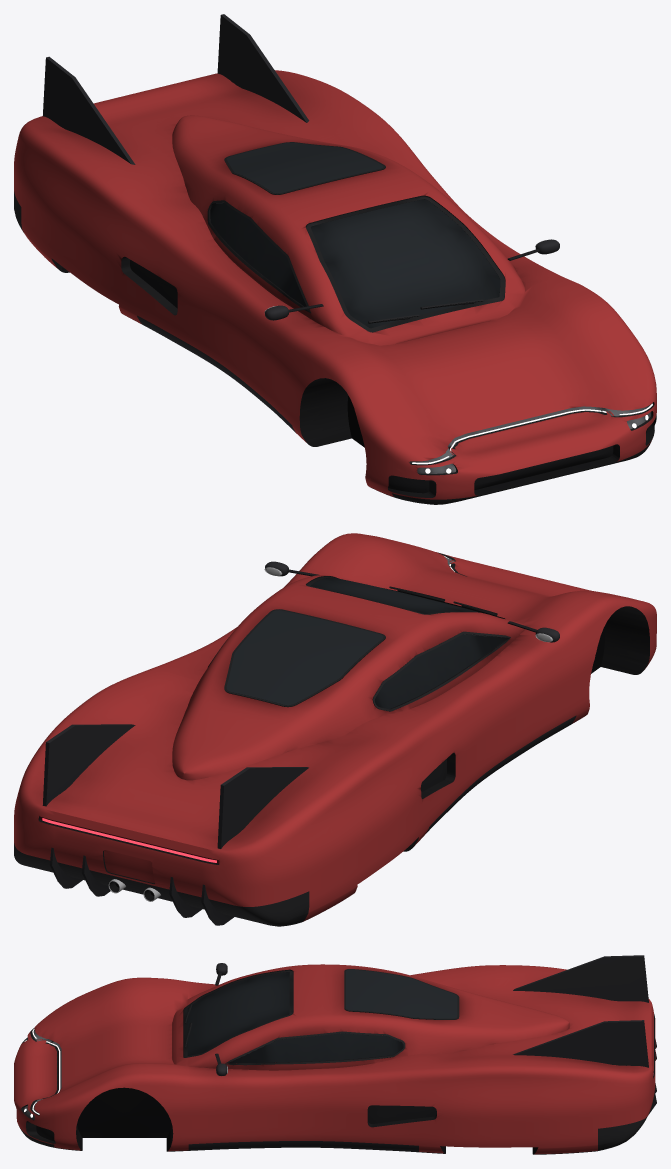
Rendered from apogee.m.glb.
3 renders of one model, top to bottom at view 1: azimuth 30°, elevation 25°; view 2: azimuth 150°, elevation 25°; view 3: azimuth 270°, elevation 25°, orthographic. The views are drawn at different scales.
Visible parts, largest first — view 1: paint_lodm, window_lodm, trim_lodm, carbon_lodm, glass_lodm, grille_lodm, head_lodm; view 2: paint_lodm, trim_lodm, carbon_lodm, glass_lodm, window_lodm, tailglow_lodm; view 3: paint_lodm, carbon_lodm, trim_lodm, window_lodm, glass_lodm, grille_lodm.
Boxes of the visible parts, <box> form: paint_lodm: <box>14,70,656,499</box>; window_lodm: <box>210,196,504,332</box>; trim_lodm: <box>14,142,656,504</box>; carbon_lodm: <box>43,14,559,432</box>; glass_lodm: <box>226,142,383,193</box>; grille_lodm: <box>130,259,647,493</box>; head_lodm: <box>409,403,652,473</box>; paint_lodm: <box>14,533,656,921</box>; trim_lodm: <box>14,552,649,926</box>; carbon_lodm: <box>42,561,576,925</box>; glass_lodm: <box>226,610,383,705</box>; window_lodm: <box>311,577,507,708</box>; tailglow_lodm: <box>42,818,216,862</box>; paint_lodm: <box>14,964,655,1154</box>; carbon_lodm: <box>188,955,656,1151</box>; trim_lodm: <box>18,969,654,1154</box>; window_lodm: <box>187,970,403,1063</box>; glass_lodm: <box>346,969,457,1018</box>; grille_lodm: <box>36,1105,436,1141</box>.
Size of what is drawn, in the model's own units: 2.12 by 0.99 by 5.02.
